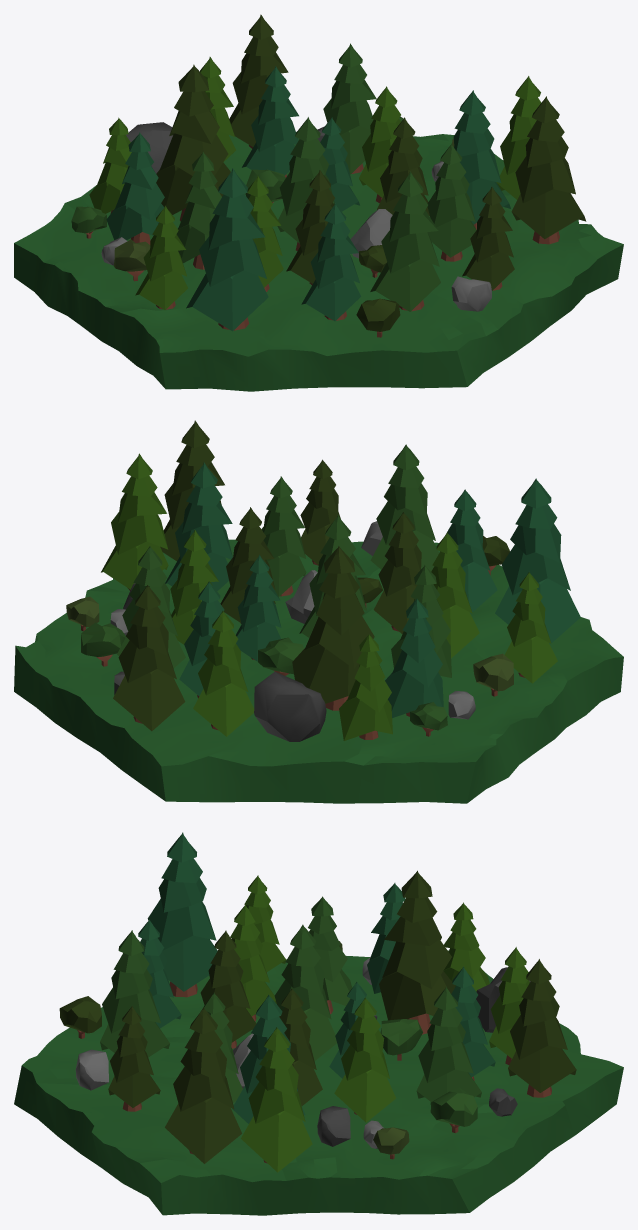
The model's file is platform_edge.fbx.
The picture shows the model from 3 angles, top to bottom: view 1: azimuth 30°, elevation 25°; view 2: azimuth 150°, elevation 25°; view 3: azimuth 270°, elevation 25°; orthographic projection. The views are drawn at different scales.
Visible parts, largest first — view 1: Platform.002, ель.026, ель.007, ель.017, ель.015, ель.018, ель.014, ель.005, ель.021, ель.022, ель.006, ель.023 (+20 smaller); view 2: Platform.002, ель.015, ель.026, ель.023, ель.008, ель.024, ель.014, ель.017, ель.006, Cube.015, ель.016, ель.028 (+21 smaller); view 3: Platform.002, ель.015, ель.007, ель.026, ель.008, ель.023, ель.012, ель.017, ель.021, ель.009, ель.027, ель.019 (+20 smaller).
Part boxes in pixels (bbox=[...]): Platform.002: bbox=[14, 131, 623, 391]; ель.026: bbox=[186, 168, 268, 331]; ель.007: bbox=[511, 96, 586, 244]; ель.017: bbox=[370, 171, 440, 311]; ель.015: bbox=[156, 64, 230, 221]; ель.018: bbox=[301, 203, 360, 321]; ель.014: bbox=[106, 132, 164, 244]; ель.005: bbox=[427, 143, 476, 261]; ель.021: bbox=[323, 43, 376, 174]; ель.022: bbox=[242, 66, 298, 177]; ель.006: bbox=[453, 90, 510, 229]; ель.023: bbox=[229, 14, 288, 148]; Platform.002: bbox=[14, 539, 623, 803]; ель.015: bbox=[292, 546, 374, 710]; ель.026: bbox=[495, 478, 580, 644]; ель.023: bbox=[113, 585, 185, 731]; ель.008: bbox=[101, 453, 168, 590]; ель.024: bbox=[193, 611, 254, 736]; ель.014: bbox=[385, 598, 443, 717]; ель.017: bbox=[370, 444, 439, 571]; ель.006: bbox=[165, 462, 232, 591]; Cube.015: bbox=[254, 672, 326, 741]; ель.016: bbox=[339, 634, 392, 740]; ель.028: bbox=[504, 572, 557, 683]; Platform.002: bbox=[14, 956, 623, 1215]; ель.015: bbox=[379, 870, 455, 1034]; ель.007: bbox=[165, 1007, 241, 1163]; ель.026: bbox=[147, 832, 217, 997]; ель.008: bbox=[241, 1027, 312, 1172]; ель.023: bbox=[508, 959, 576, 1097]; ель.012: bbox=[334, 997, 396, 1122]; ель.017: bbox=[100, 930, 169, 1057]; ель.021: bbox=[416, 986, 481, 1101]; ель.009: bbox=[274, 924, 336, 1060]; ель.027: bbox=[108, 1006, 160, 1111]; ель.019: bbox=[200, 930, 256, 1048].
Size of the model in its own units: 893 by 366 by 1012.
